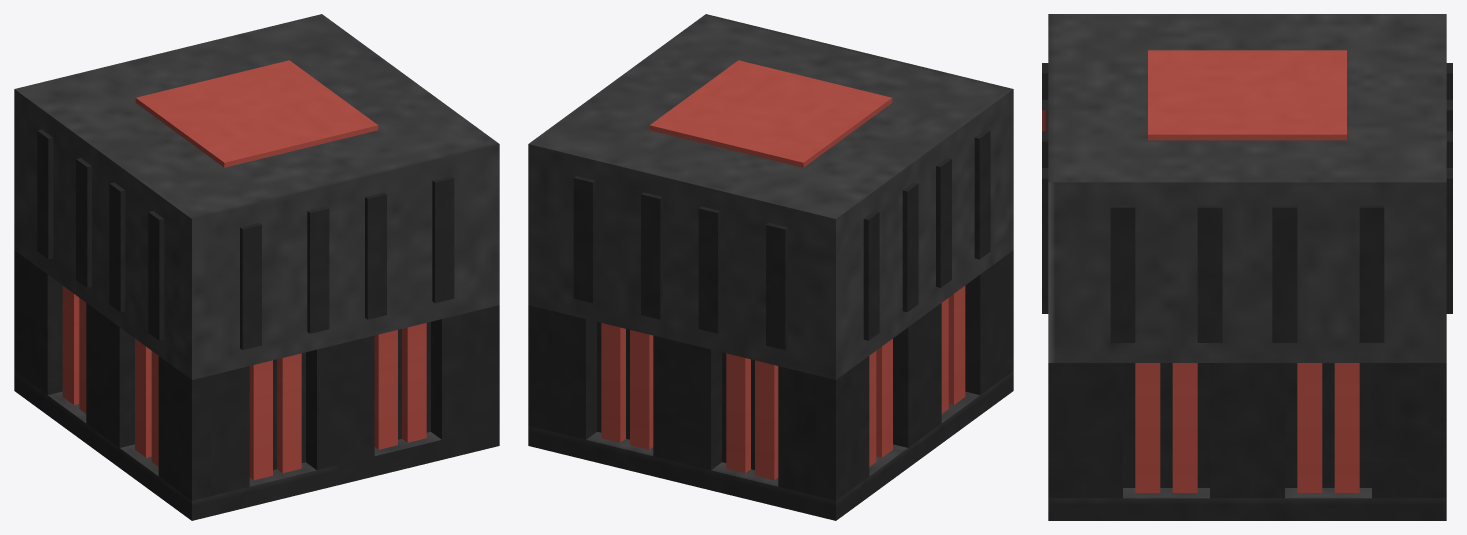
File: matrixmodel.obj
The picture shows the model from 3 angles, left to right: view 1: azimuth 30°, elevation 25°; view 2: azimuth 150°, elevation 25°; view 3: azimuth 270°, elevation 25°; orthographic projection. The views are drawn at different scales.
Visible parts, largest first — view 1: cube; view 2: cube; view 3: cube.
Part boxes in pixels (<box>): cube: <box>14,14,499,520</box>; cube: <box>528,14,1013,520</box>; cube: <box>1042,14,1452,520</box>.
Size of the model in its own units: 16.5 by 15.25 by 16.5.
